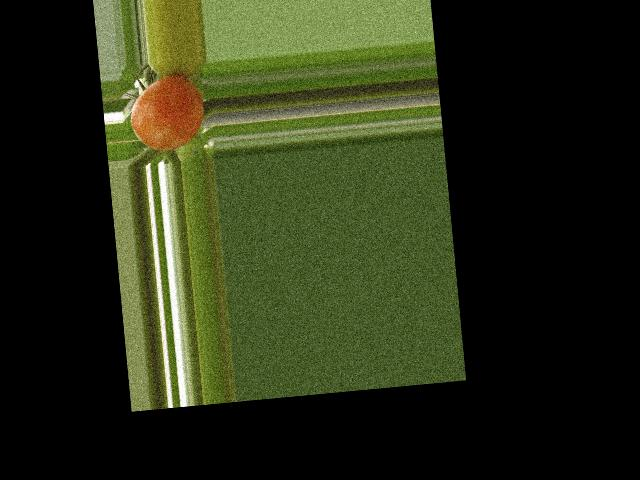tomato: (126, 72, 207, 153)
